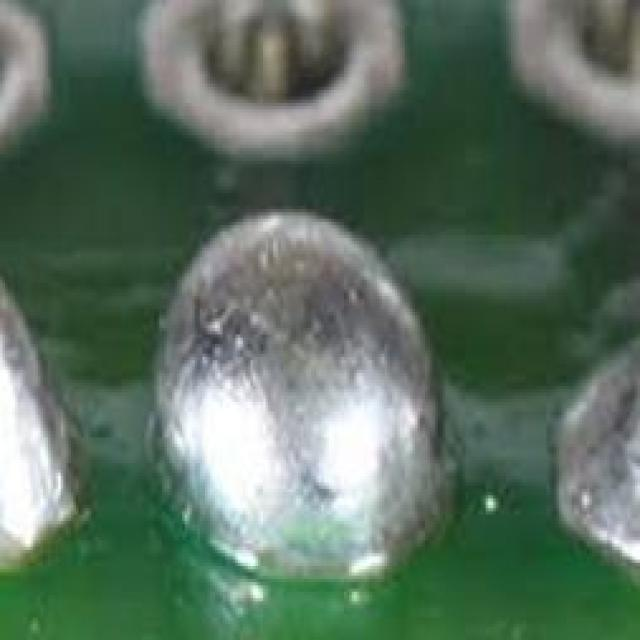redundant: (172, 220, 444, 539)
